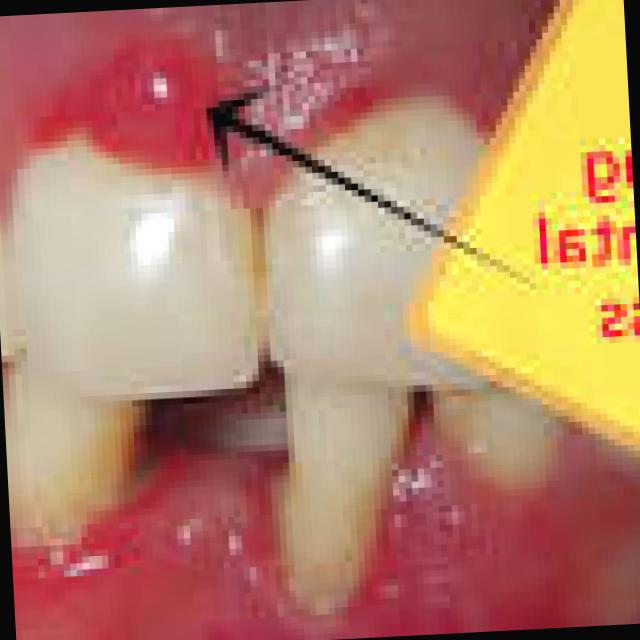abscess: (7, 24, 252, 198)
